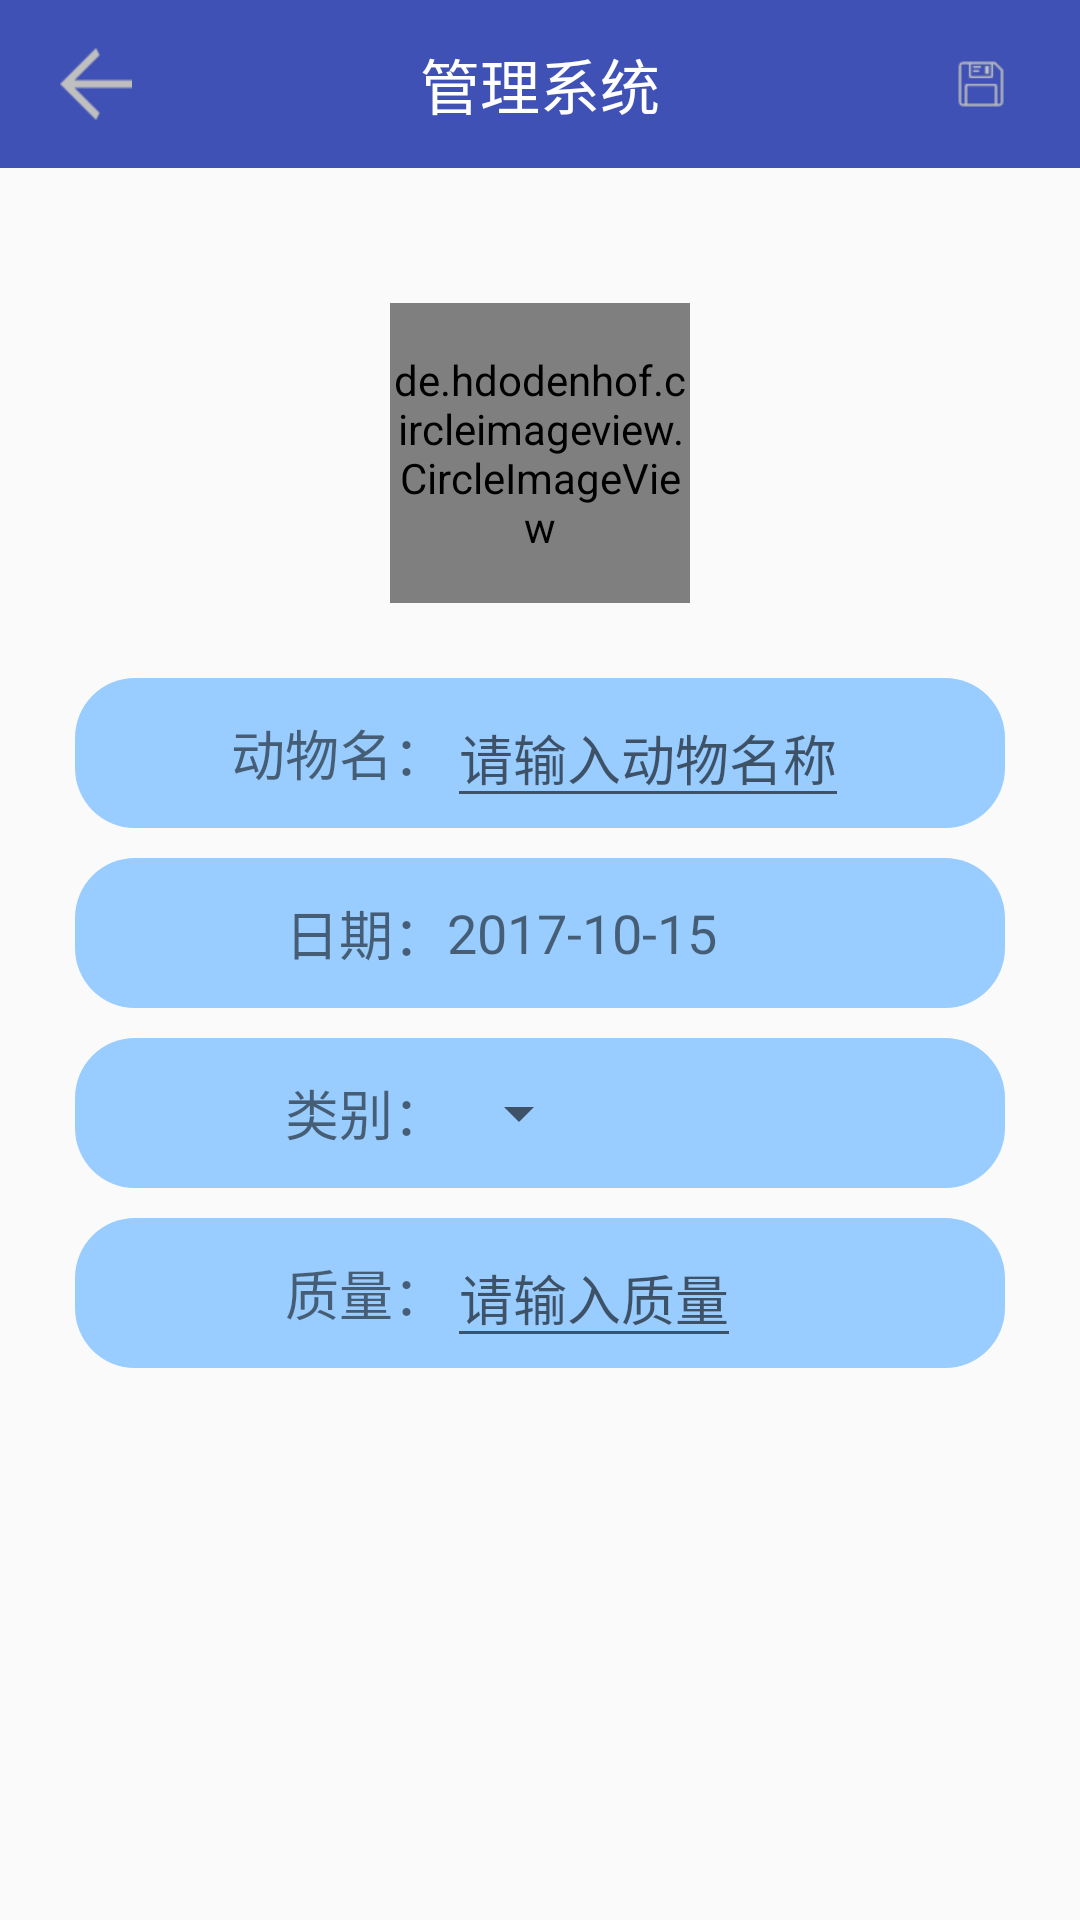

Where to tap for icons on this 1080 × 1920 app screen, as [x,y]:
return: [96,84]
sava: [981,84]
